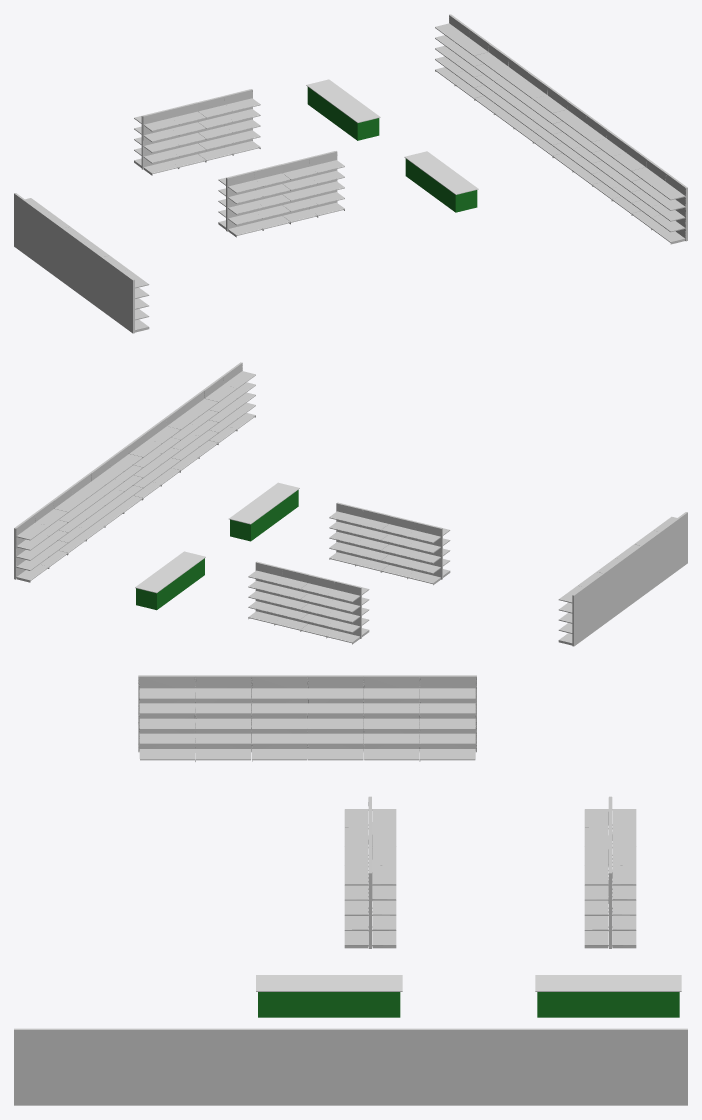
The model's file is shop1_tools.dae.
3 renders of one model, top to bottom at view 1: azimuth 30°, elevation 25°; view 2: azimuth 150°, elevation 25°; view 3: azimuth 270°, elevation 25°, orthographic. The views are drawn at different scales.
Parts seen in each view (by area): view 1: Cube.181, Cube.177, Cube.180, Cube.173, Cube.081, Cube.176, Cube.083, Cube.086, Cube.082, Cube.085, Cube.084, table (+3 smaller); view 2: Cube.182, Cube.178, Cube.179, Cube.183, Cube.086, Cube.174, Cube.081, Cube.085, Cube.083, Cube.082, Cube.084, Cube.175 (+3 smaller); view 3: Cube.176, Cube.174, Cube.175, Cube.086, Cube.083, Cube.081, Cube.082, Cube.085, Cube.084, table.001, table, Cube.173 (+7 smaller).
Boxes of the visible parts, bbox=[...] form: Cube.181: bbox=[226, 164, 290, 237]; Cube.177: bbox=[143, 102, 206, 175]; Cube.180: bbox=[282, 151, 344, 223]; Cube.173: bbox=[196, 89, 260, 162]; Cube.081: bbox=[631, 159, 687, 244]; Cube.176: bbox=[93, 251, 149, 333]; Cube.083: bbox=[552, 101, 608, 186]; Cube.086: bbox=[435, 14, 490, 100]; Cube.082: bbox=[592, 130, 648, 215]; Cube.085: bbox=[474, 43, 530, 129]; Cube.084: bbox=[513, 72, 568, 157]; table: bbox=[404, 151, 478, 212]; Cube.182: bbox=[381, 515, 442, 585]; Cube.178: bbox=[300, 574, 361, 644]; Cube.179: bbox=[248, 561, 309, 631]; Cube.183: bbox=[329, 503, 390, 572]; Cube.086: bbox=[14, 500, 67, 582]; Cube.174: bbox=[558, 567, 612, 646]; Cube.081: bbox=[202, 362, 255, 444]; Cube.085: bbox=[53, 472, 105, 554]; Cube.083: bbox=[128, 417, 180, 499]; Cube.082: bbox=[165, 390, 218, 472]; Cube.084: bbox=[90, 445, 142, 527]; Cube.175: bbox=[596, 539, 650, 618]; Cube.176: bbox=[138, 675, 252, 761]; Cube.174: bbox=[363, 675, 476, 761]; Cube.175: bbox=[251, 675, 364, 761]; Cube.086: bbox=[573, 1028, 687, 1105]; Cube.083: bbox=[238, 1028, 352, 1105]; Cube.081: bbox=[14, 1028, 128, 1105]; Cube.082: bbox=[126, 1028, 240, 1105]; Cube.085: bbox=[461, 1028, 575, 1105]; Cube.084: bbox=[350, 1028, 464, 1105]; table.001: bbox=[535, 975, 681, 1017]; table: bbox=[256, 975, 402, 1017]; Cube.173: bbox=[584, 835, 611, 948].
Size of the model in its own units: 21.1 by 16.94 by 2.1.
